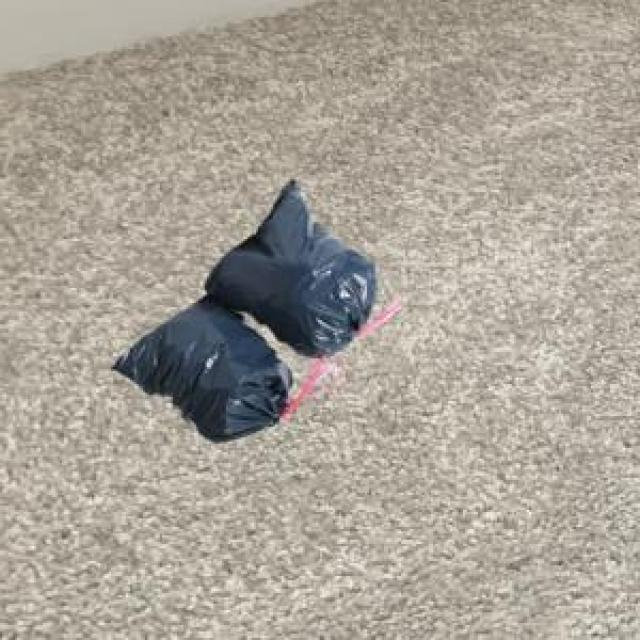Trashbag: (133, 303, 275, 448), (232, 206, 381, 341)
